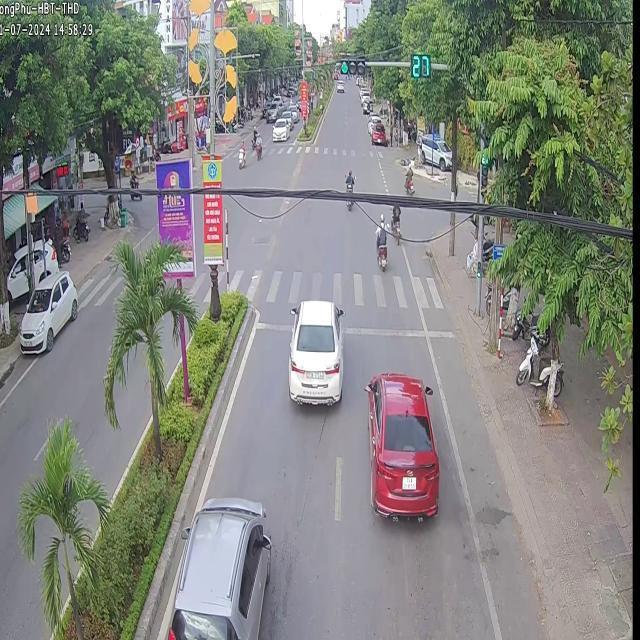car: (167, 496, 269, 638), (361, 370, 440, 525), (285, 298, 343, 409)
green_light: (335, 51, 366, 76), (478, 154, 488, 187)
motobike: (373, 210, 386, 272), (389, 200, 400, 249)
stop_line: (253, 321, 454, 336)
